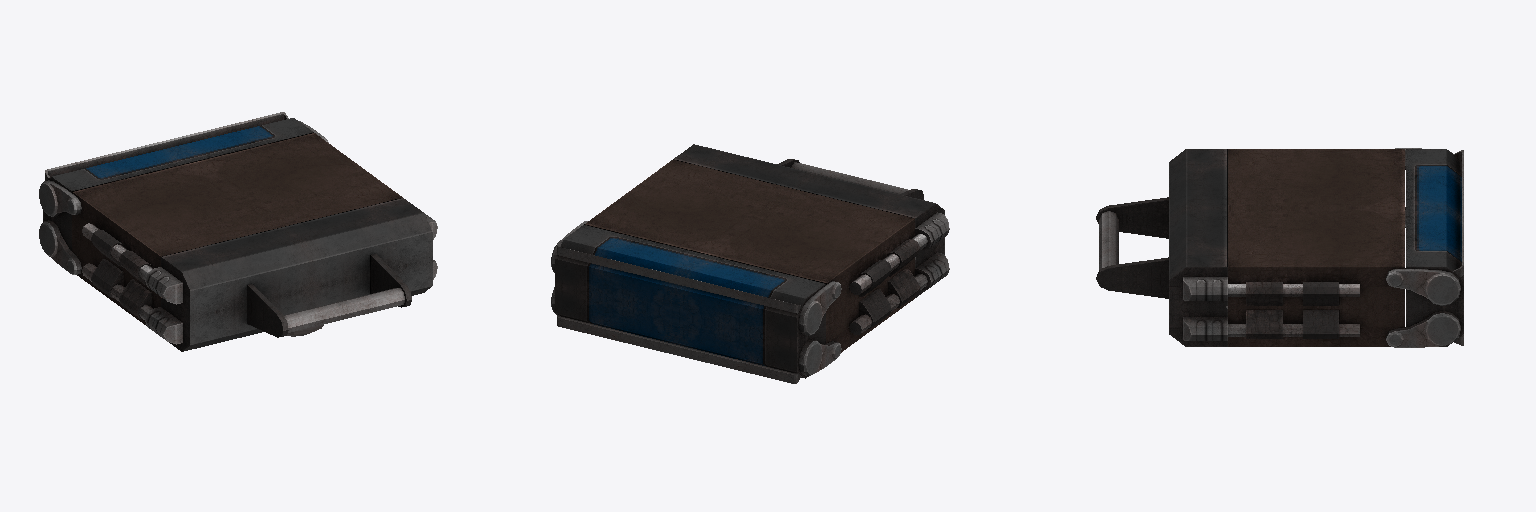
3 renders of one model, left to right at view 1: azimuth 30°, elevation 25°; view 2: azimuth 150°, elevation 25°; view 3: azimuth 270°, elevation 25°, orthographic.
Parts seen in each view (by area): view 1: Panel_Large_01, Base, Panel_Large_02, Panel_Small_04, Panel_Small_03; view 2: Panel_Large_01, Base, Panel_Small_04, Panel_Large_02, Panel_Small_03; view 3: Panel_Large_01, Base, Panel_Large_02, Panel_Small_02, Panel_Small_01.
Boxes of the visible parts, box(x1,y1,x2,y2) form: Panel_Large_01: box(72, 133, 437, 330); Base: box(39, 112, 328, 274); Panel_Large_02: box(74, 253, 437, 351); Panel_Small_04: box(72, 232, 161, 318); Panel_Small_03: box(72, 215, 150, 285); Panel_Large_01: box(584, 144, 949, 294); Base: box(551, 221, 841, 383); Panel_Small_04: box(826, 259, 919, 342); Panel_Large_02: box(826, 197, 949, 352); Panel_Small_03: box(826, 239, 919, 322); Panel_Large_01: box(1096, 149, 1404, 306); Base: box(1386, 148, 1463, 347); Panel_Large_02: box(1096, 219, 1404, 346); Panel_Small_02: box(1228, 307, 1404, 338); Panel_Small_01: box(1228, 282, 1404, 306).
Size of the model in its own units: 439 by 146 by 508.
1 materials, 1 textured.